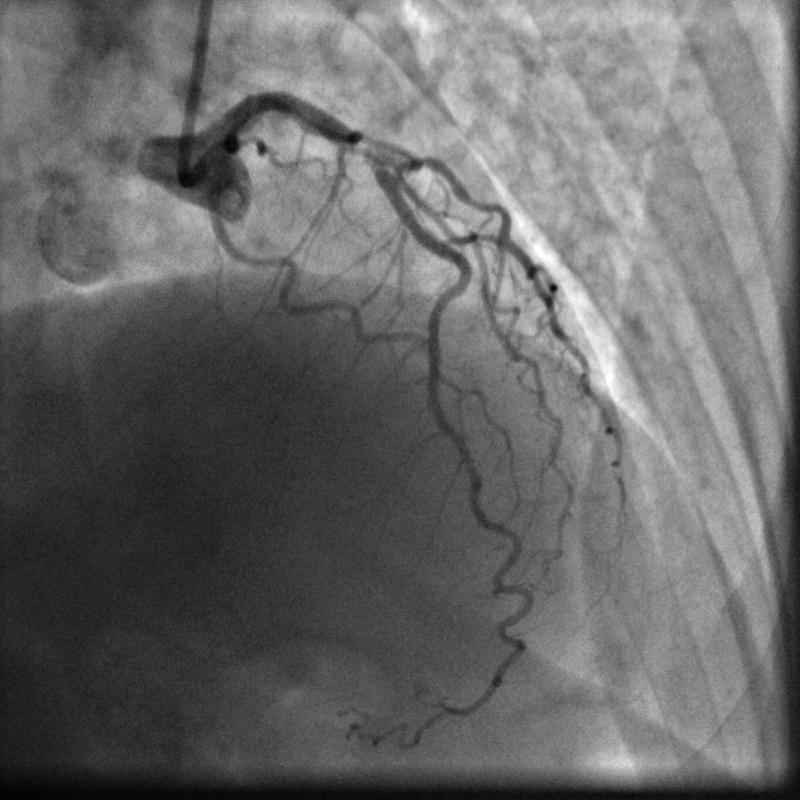Stenosis: (352, 137, 378, 169)
